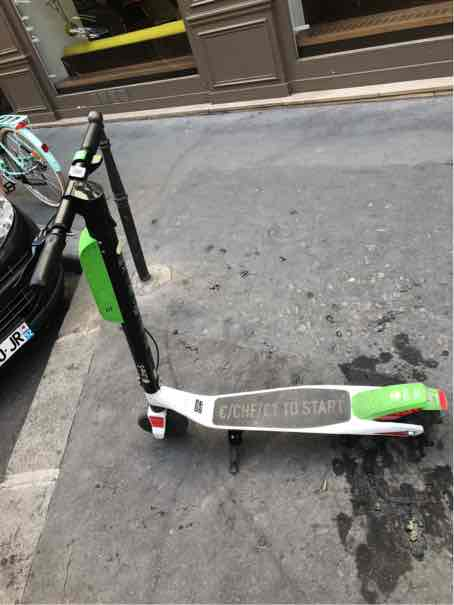scooter: (12, 121, 454, 459)
